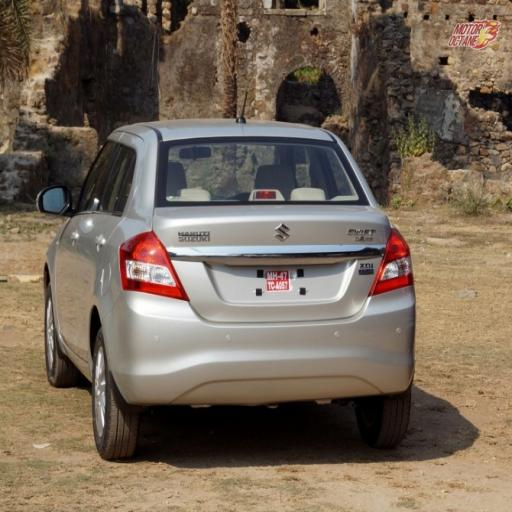License: (225, 260, 347, 302)
